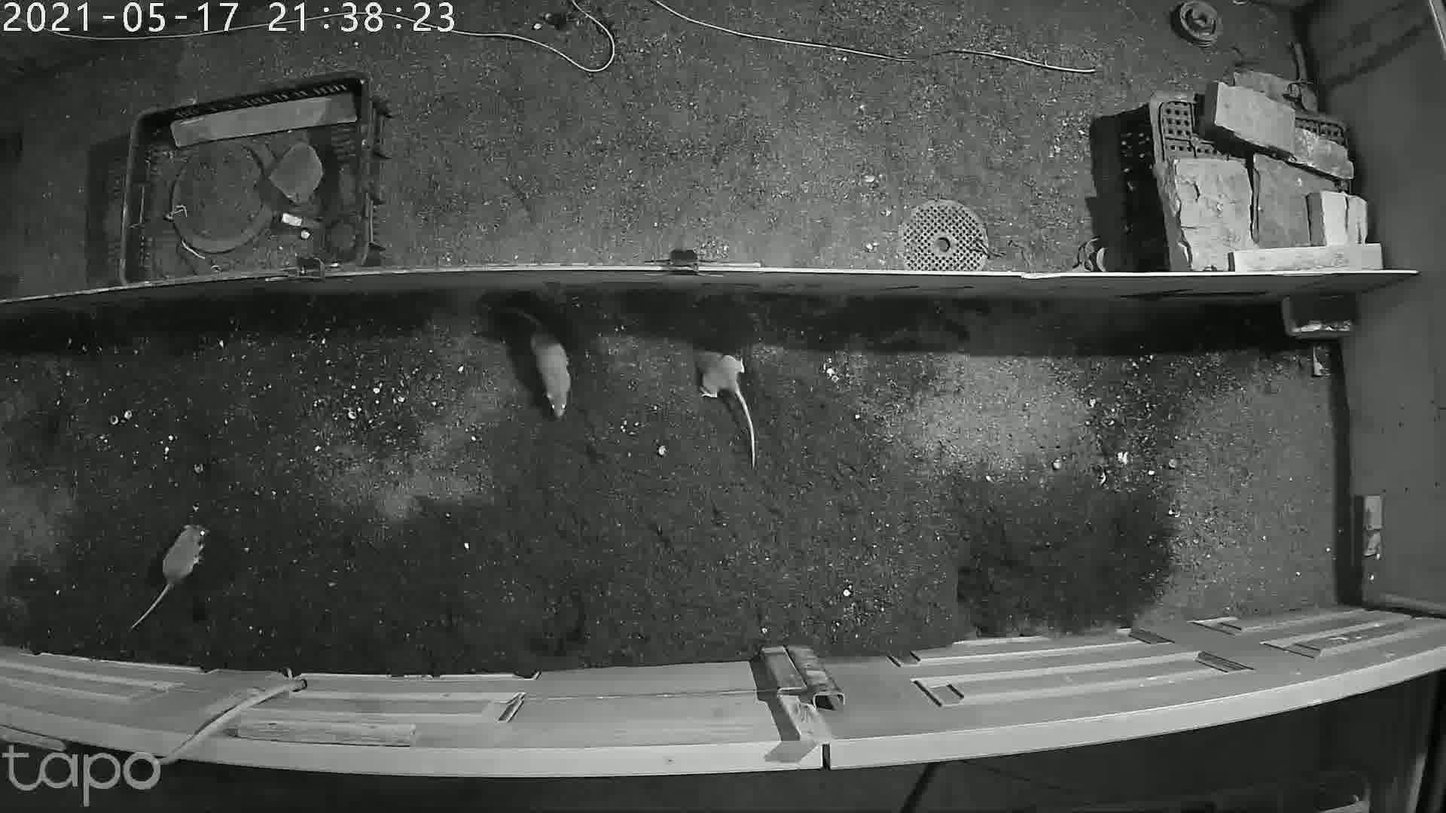rat: (660, 329, 779, 492), (92, 522, 216, 629), (508, 305, 590, 432)
